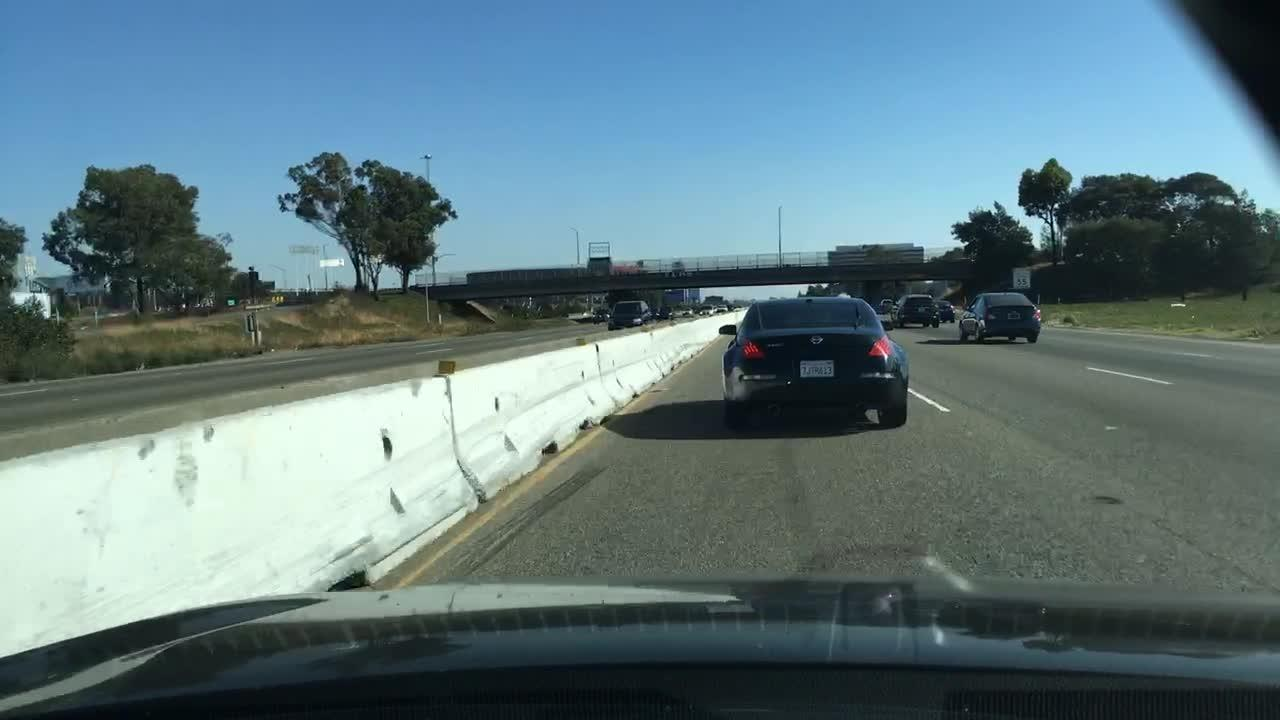Nissan: (806, 332, 828, 346)
